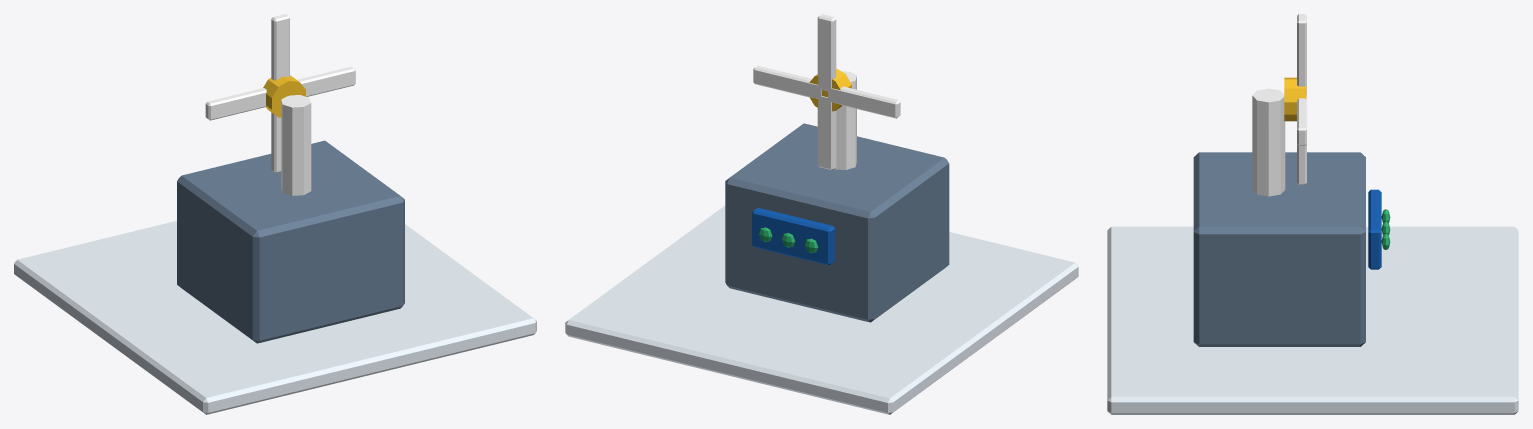
File: Building_Power_2x2_v001.fbx
3 renders of one model, left to right at view 1: azimuth 30°, elevation 25°; view 2: azimuth 150°, elevation 25°; view 3: azimuth 270°, elevation 25°, orthographic. The views are drawn at different scales.
Visible parts, largest first — view 1: Foundation, Generator, WindTower, WindBlade.001, WindBlade, WindBlade.003, RotorHub, WindBlade.002; view 2: Foundation, Generator, Switchboard, WindTower, WindBlade, WindBlade.001, WindBlade.002, WindBlade.003, RotorHub; view 3: Foundation, Generator, WindTower, Switchboard, WindBlade, RotorHub, WindBlade.003, WindBlade.002.
Boxes of the visible parts, x1,y1,x2,y2 form: Foundation: (14,221,536,414); Generator: (177,140,404,343); WindTower: (281,95,311,195); WindBlade.001: (205,88,266,120); WindBlade: (271,14,289,80); WindBlade.003: (297,66,355,96); RotorHub: (263,75,305,117); WindBlade.002: (271,112,281,172); Foundation: (565,205,1078,414); Generator: (725,123,949,322); Switchboard: (752,207,834,265); WindTower: (834,71,856,169); WindBlade: (817,14,836,91); WindBlade.001: (828,86,900,118); WindBlade.002: (817,96,836,169); WindBlade.003: (753,65,821,98); RotorHub: (809,68,851,111); Foundation: (1107,226,1518,414); Generator: (1193,152,1365,346); WindTower: (1252,88,1285,196); Switchboard: (1368,189,1381,269); WindBlade: (1297,14,1306,95); RotorHub: (1284,77,1306,121); WindBlade.003: (1297,95,1306,145); WindBlade.002: (1297,144,1306,184).
Size of the model in its own units: 186 by 156 by 186.
